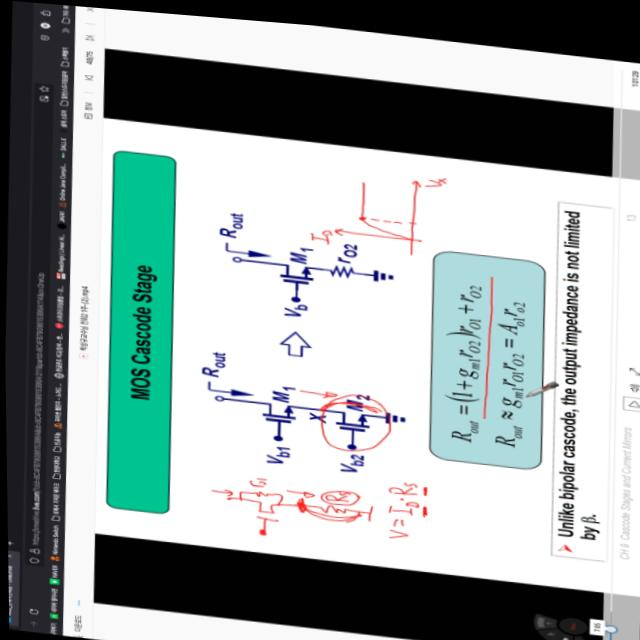panseo: (187, 453, 448, 551), (301, 143, 451, 253)
